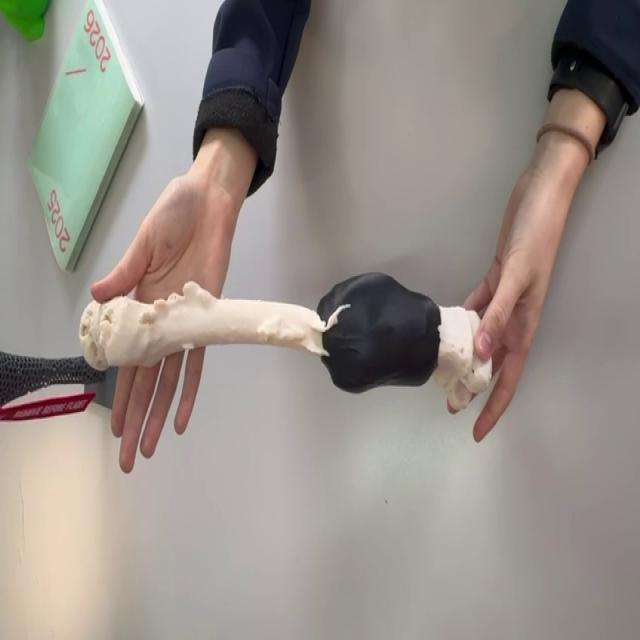bones: (80, 272, 492, 409)
